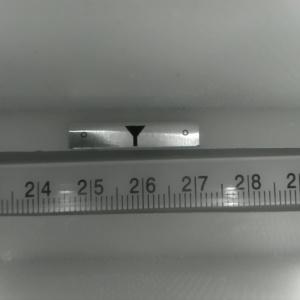2: (128, 177, 139, 194), (286, 172, 296, 189), (181, 176, 191, 192), (77, 179, 87, 195), (24, 181, 34, 197), (234, 175, 244, 191)
4: (40, 181, 50, 196)
5: (93, 179, 103, 195)
6: (145, 176, 155, 193)
7: (198, 176, 208, 191)
8: (251, 173, 261, 190)
finger: (123, 126, 145, 147)
